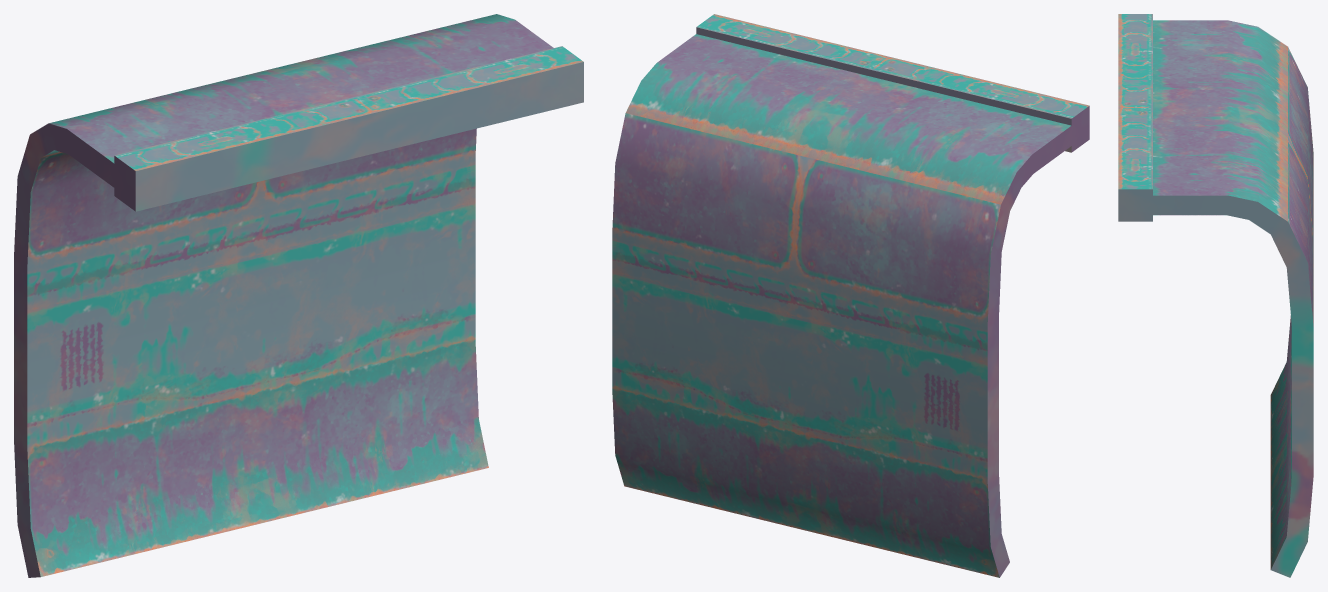
File: roof_side_long.fbx
The picture shows the model from 3 angles, left to right: view 1: azimuth 30°, elevation 25°; view 2: azimuth 150°, elevation 25°; view 3: azimuth 270°, elevation 25°; orthographic projection. The views are drawn at different scales.
Visible parts, largest first — view 1: polySurface4; view 2: polySurface4; view 3: polySurface4.
Boxes of the visible parts, bbox=[...] form: polySurface4: bbox=[14, 14, 583, 577]; polySurface4: bbox=[612, 14, 1089, 577]; polySurface4: bbox=[1118, 14, 1313, 577].
Size of the model in its own units: 289 by 300 by 136.
Materials: 1 (1 with a texture image).
